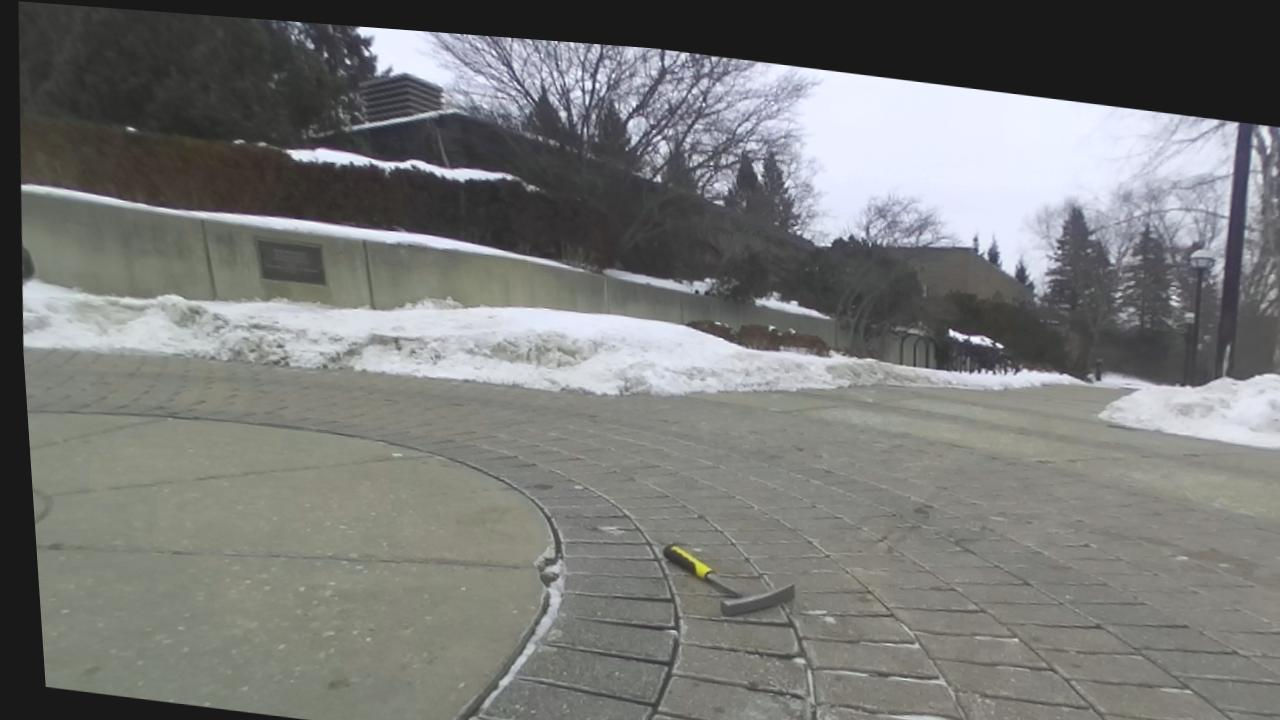pick: (662, 545, 794, 614)
